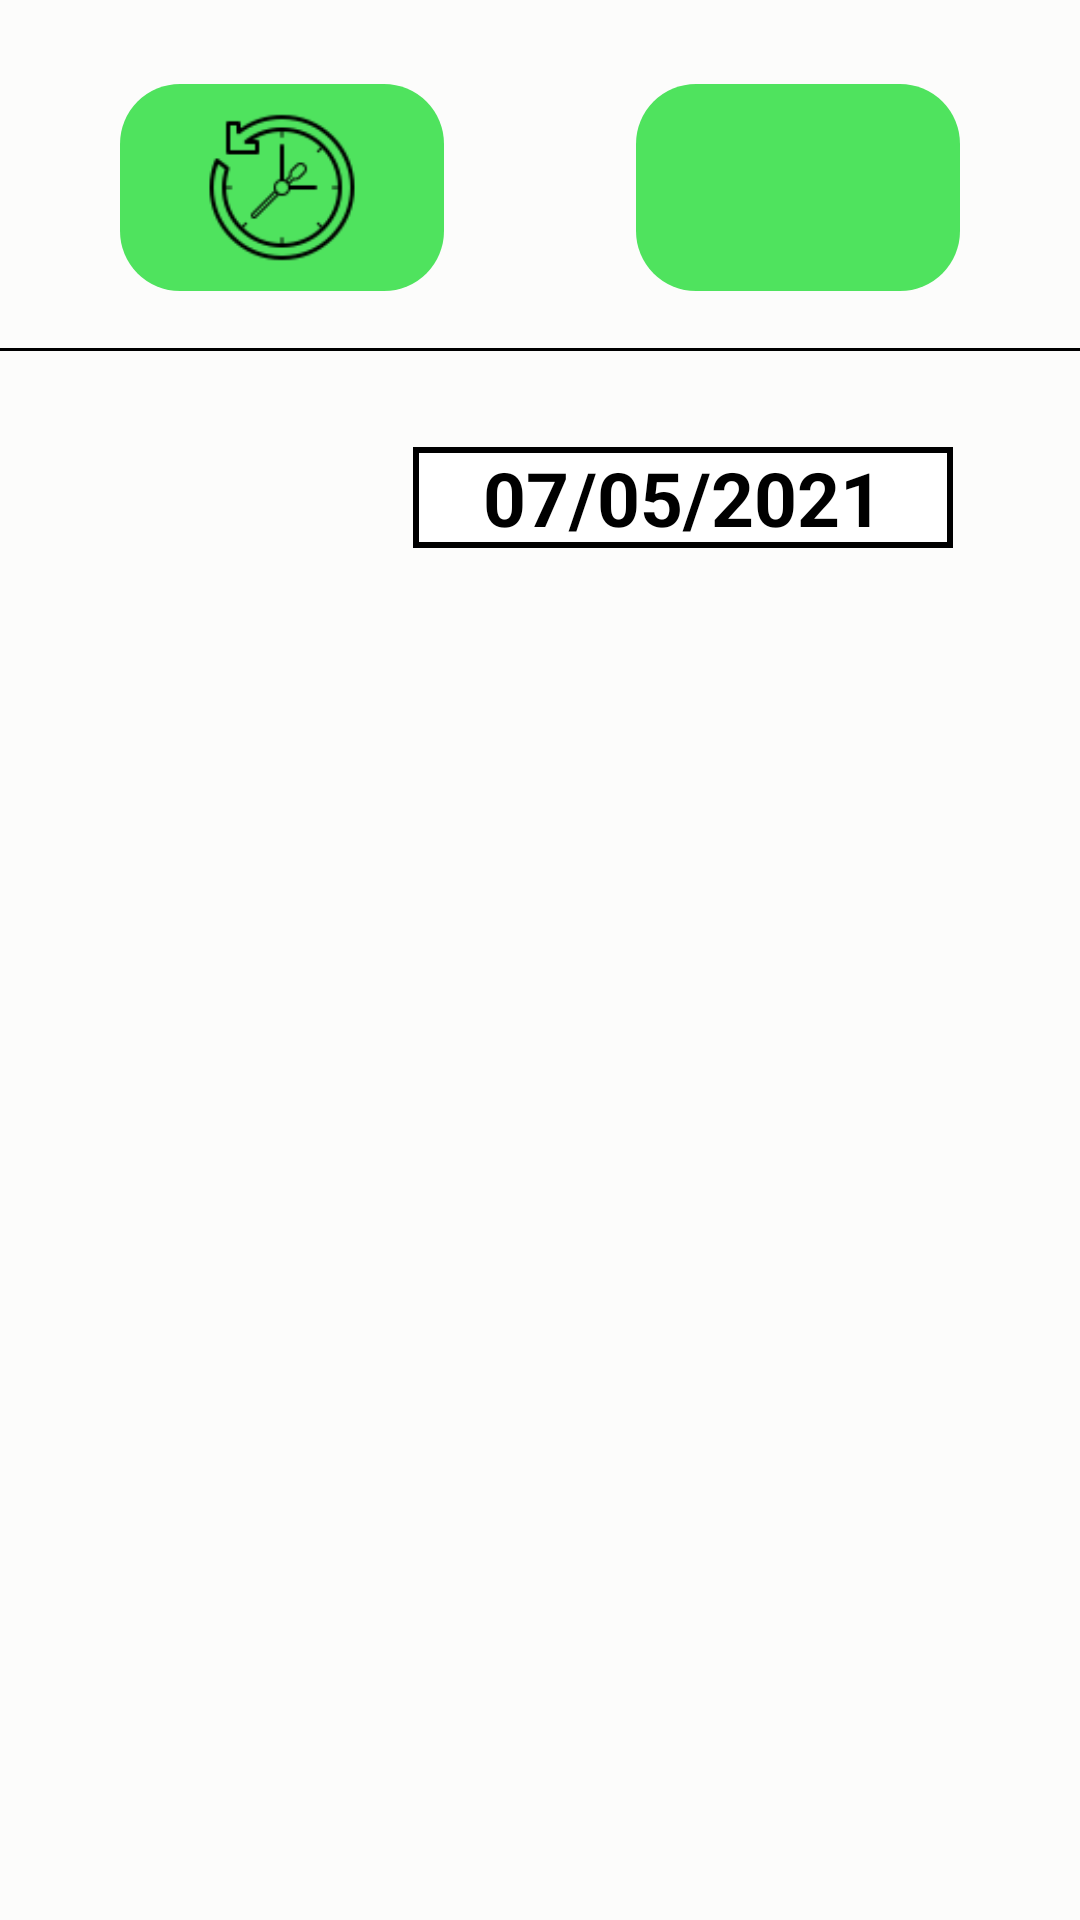

Screen size 1080×1920. Icon name, then its center in pixels as [x,y]:
date time: [282,187]
